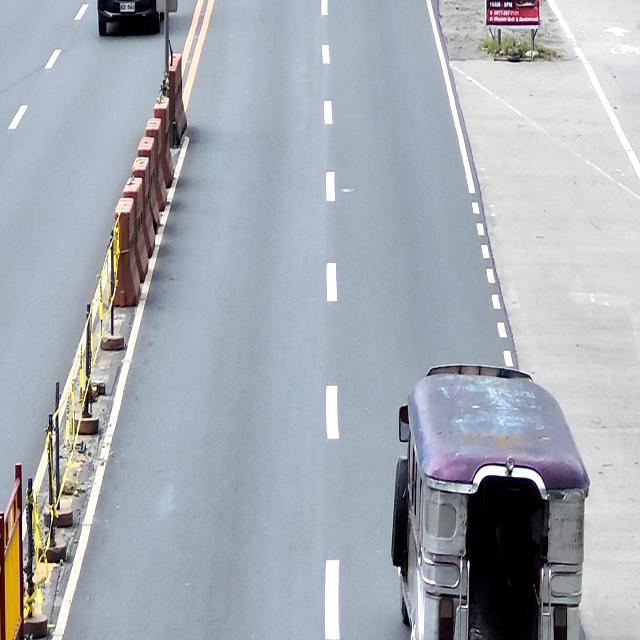Car: (96, 0, 168, 39)
Jeep: (390, 362, 590, 638)
License-Plate: (118, 1, 136, 13)
